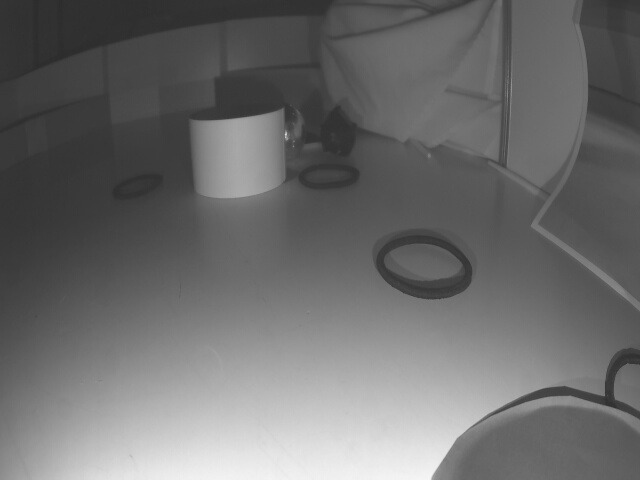Dead: (320, 107, 353, 160)
Live: (283, 105, 301, 160)
Point: (0, 95, 107, 174), (217, 78, 338, 117)
